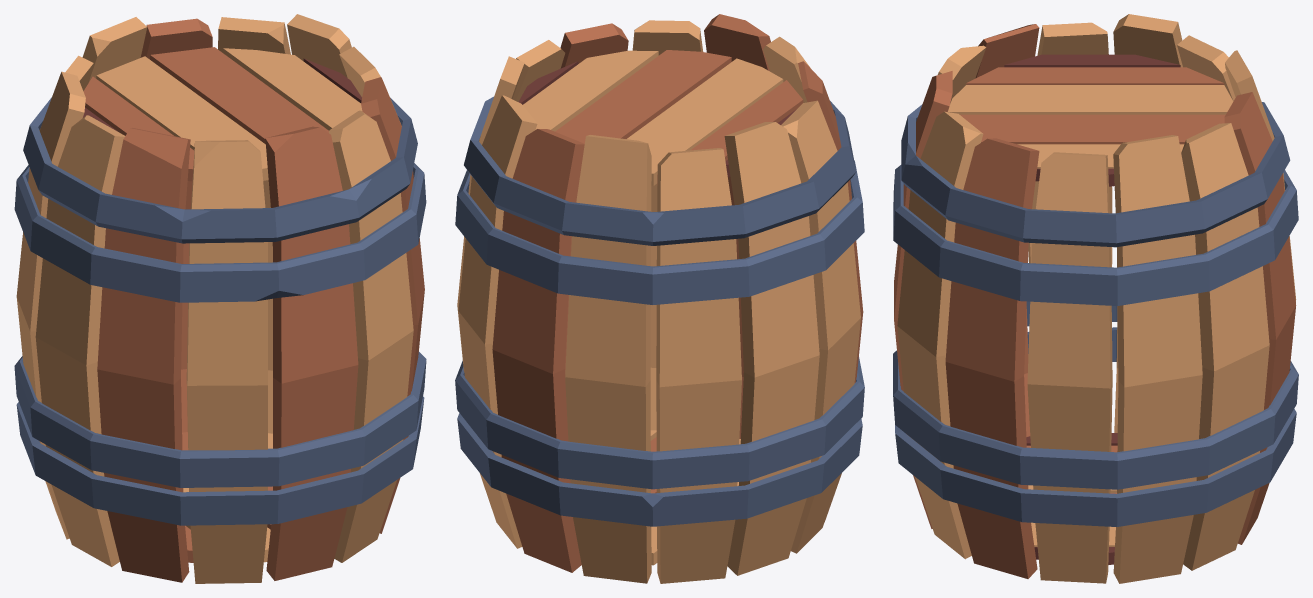
Rendered from Barrel 1_1.fbx.
3 renders of one model, left to right at view 1: azimuth 30°, elevation 25°; view 2: azimuth 150°, elevation 25°; view 3: azimuth 270°, elevation 25°, orthographic.
Parts seen in each view (by area): view 1: Barrel 1_1; view 2: Barrel 1_1; view 3: Barrel 1_1.
Boxes of the visible parts, x1,y1,x2,y2 form: Barrel 1_1: [14, 14, 426, 583]; Barrel 1_1: [455, 14, 864, 583]; Barrel 1_1: [893, 14, 1298, 583].
Size of the model in its own units: 95.88 by 113 by 95.18.
